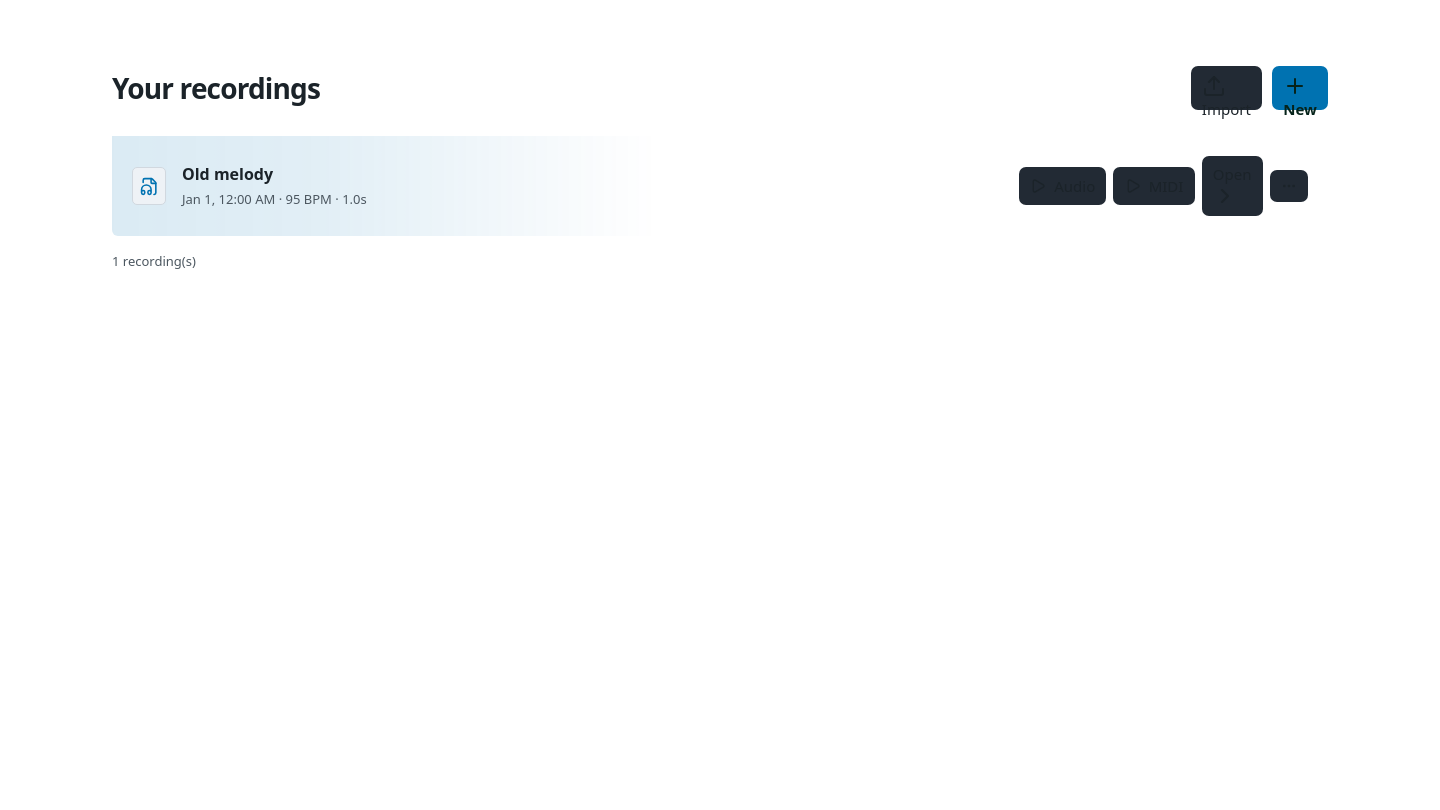
Scenario: library › confirms successful deletion with a toast
Click the button named "Actions for Old melody" at (1289, 186), box x1=1270 y1=170 x2=1308 y2=202
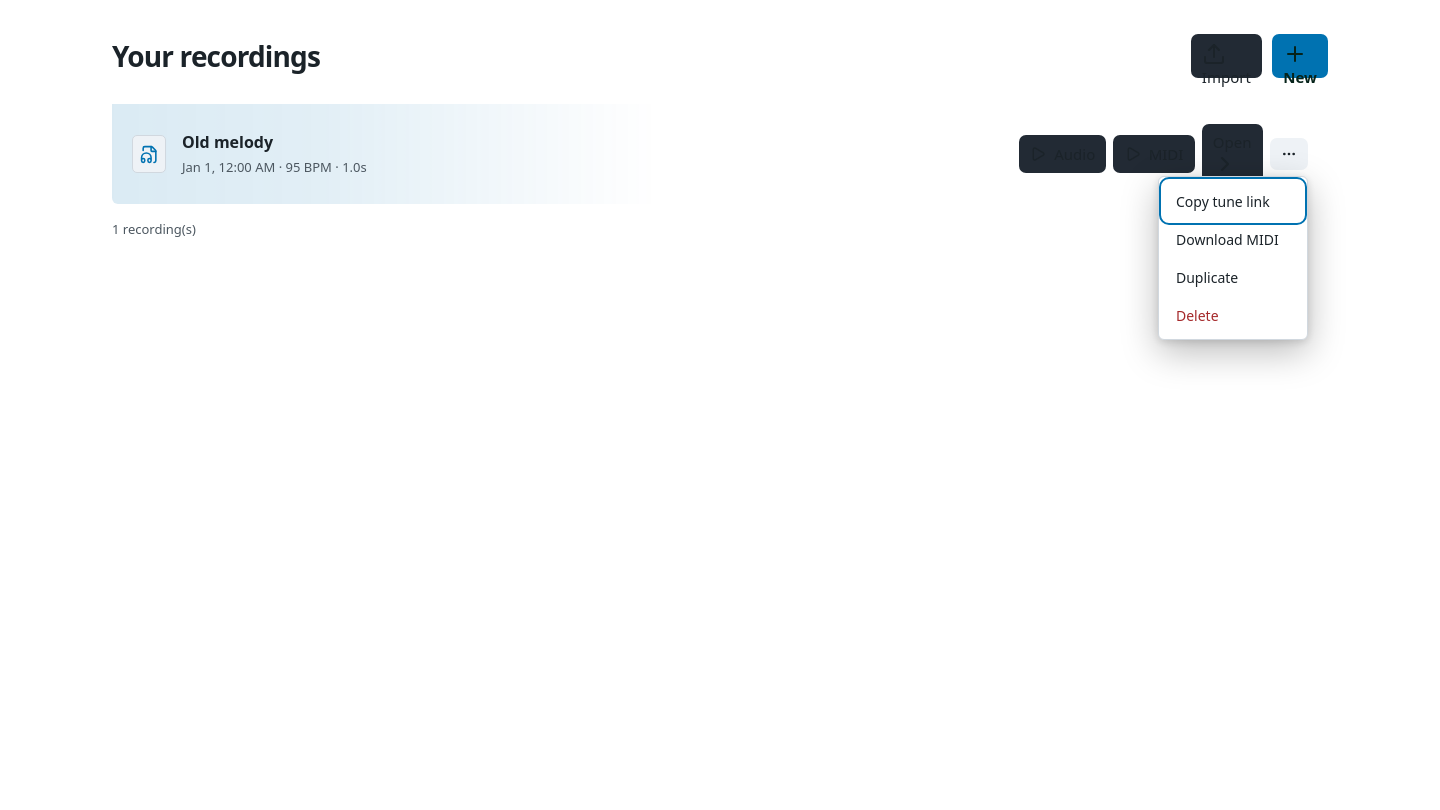
Click the button "Delete" at (1233, 315), box x1=1164 y1=296 x2=1302 y2=334
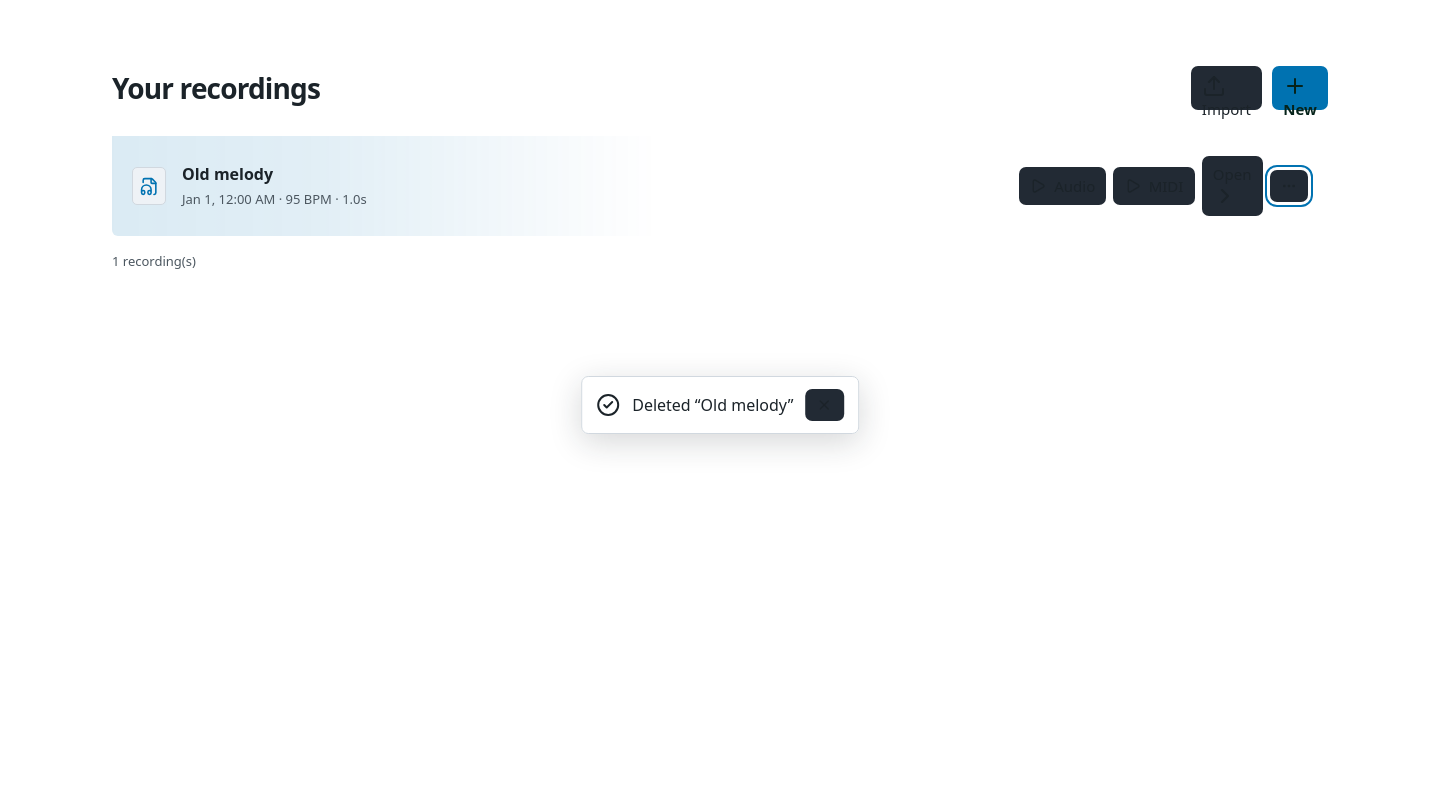
expect the message reads "Deleted “Old melody”": met, box x1=632 y1=394 x2=793 y2=416
